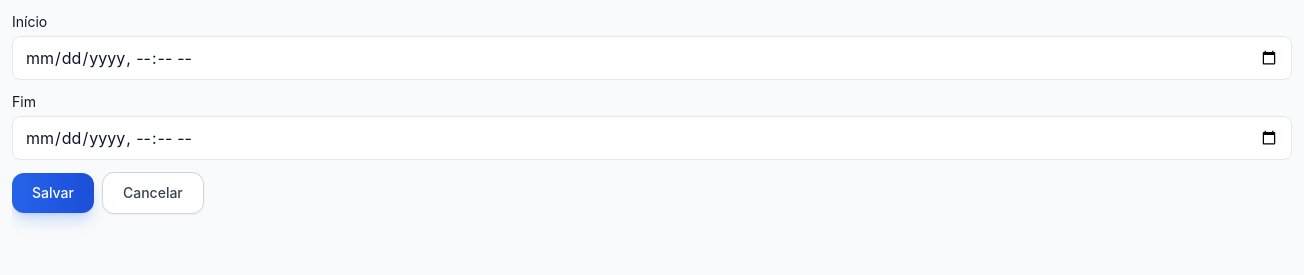
Test case: SlotForm - expanded tests › form validation › handles edge case: exactly same minute
Type "2023-01-01T10:30" into the field labelled "Início" at coordinates (652, 58), box [12,36,1292,80]
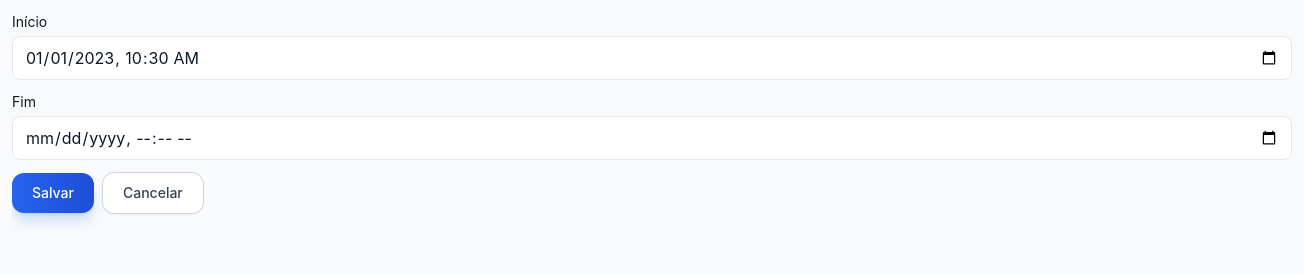
Type "2023-01-01T10:30" into the field labelled "Fim" at coordinates (652, 138), box [12,116,1292,160]
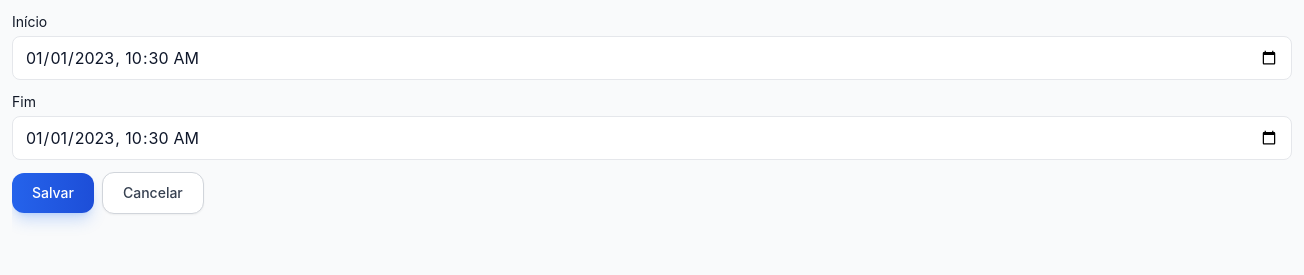
Click the button "Salvar" at coordinates (53, 193), box [12,173,94,213]
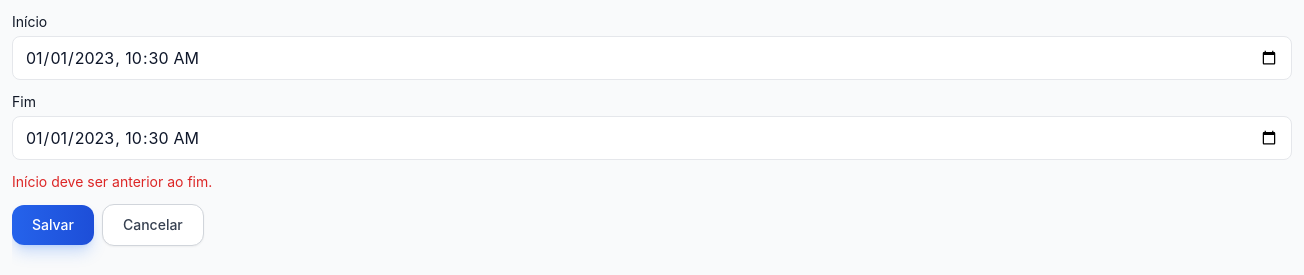
Expected: the text "Início deve ser anterior ao fim." is shown, [12,173,212,190]
